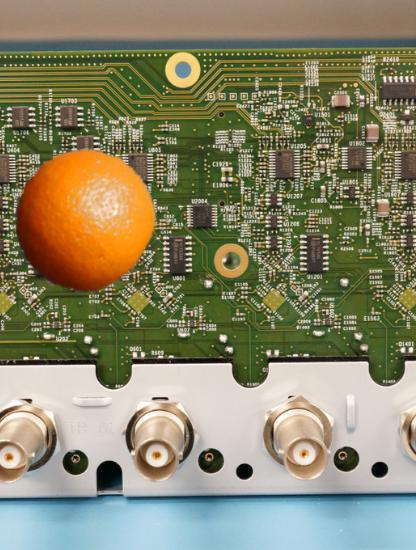Orange: (11, 148, 155, 292)
